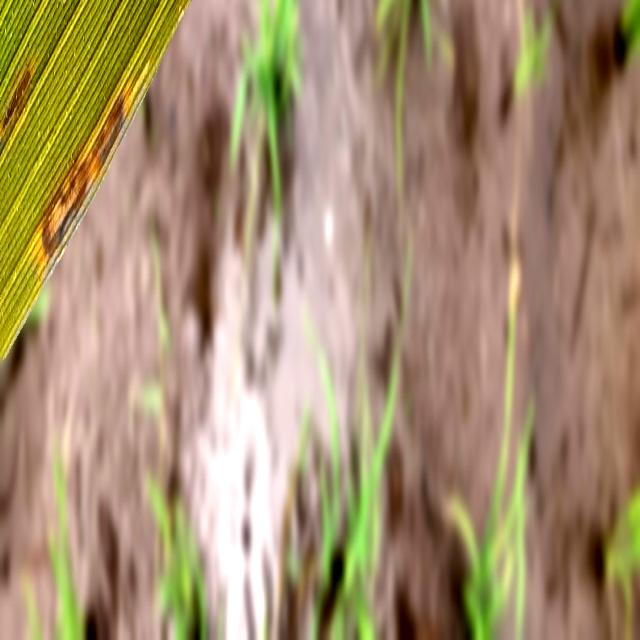LEAF BLAST: (42, 90, 125, 259)
